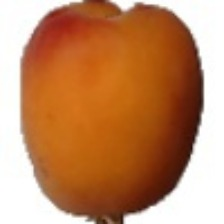apricot: (37, 45, 205, 203)
